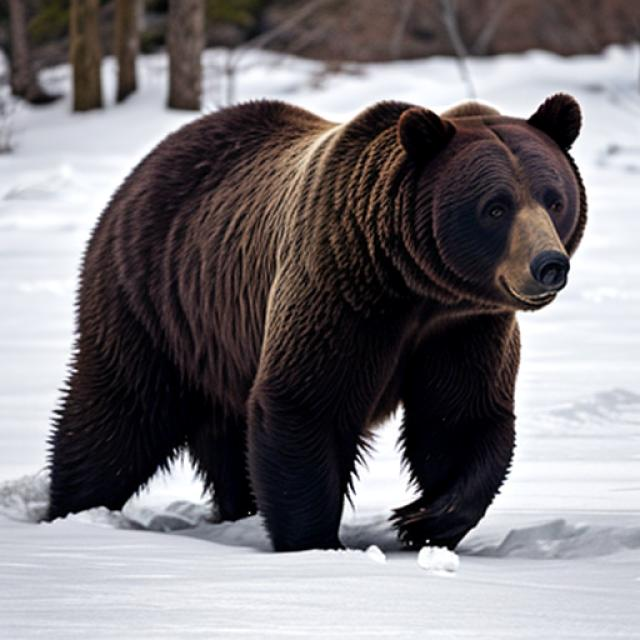bear: (38, 69, 616, 580)
